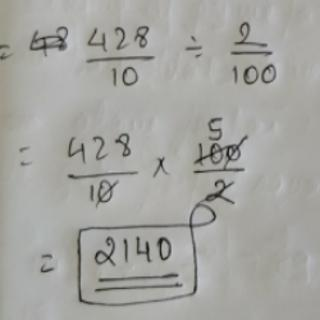.: (187, 30, 202, 45)
0: (155, 234, 175, 263), (122, 64, 142, 89), (244, 61, 259, 86)
1: (194, 142, 206, 170), (84, 180, 97, 205), (110, 64, 120, 90), (121, 237, 130, 265), (232, 61, 241, 88)
2: (235, 21, 268, 48), (94, 231, 117, 265), (111, 24, 132, 52), (92, 133, 109, 162)
4: (83, 23, 111, 55), (65, 138, 90, 168), (135, 236, 151, 264)
5: (206, 115, 226, 143)
8: (114, 130, 134, 158), (134, 24, 153, 50)
